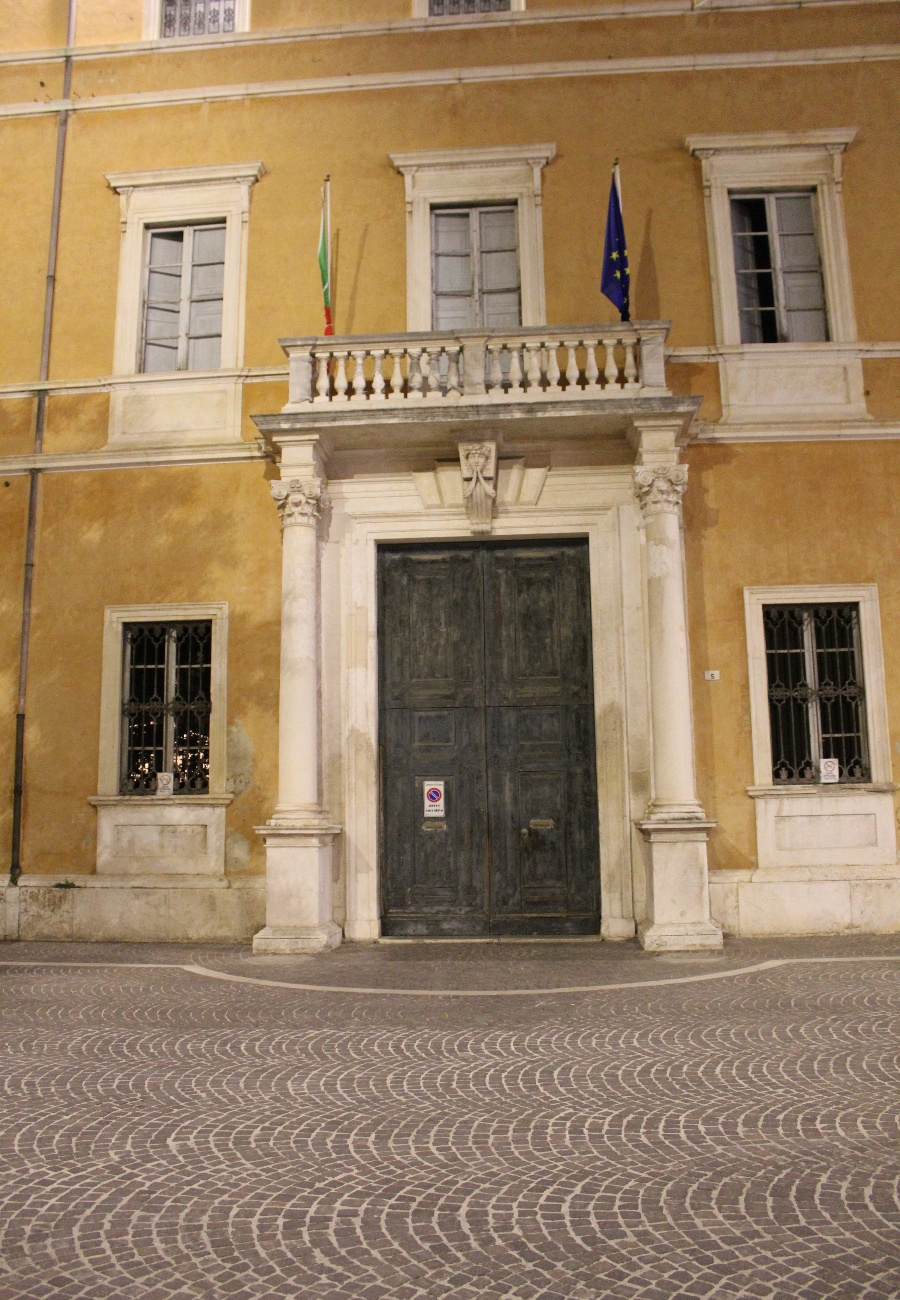Palazzo Olivieri: (217, 66, 742, 949)
